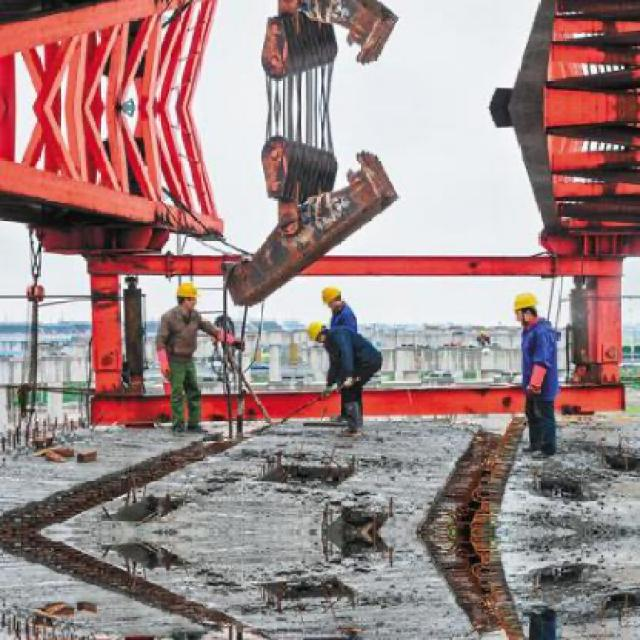helmet: (511, 288, 542, 326), (172, 278, 200, 310), (300, 315, 329, 343), (319, 283, 346, 308)
